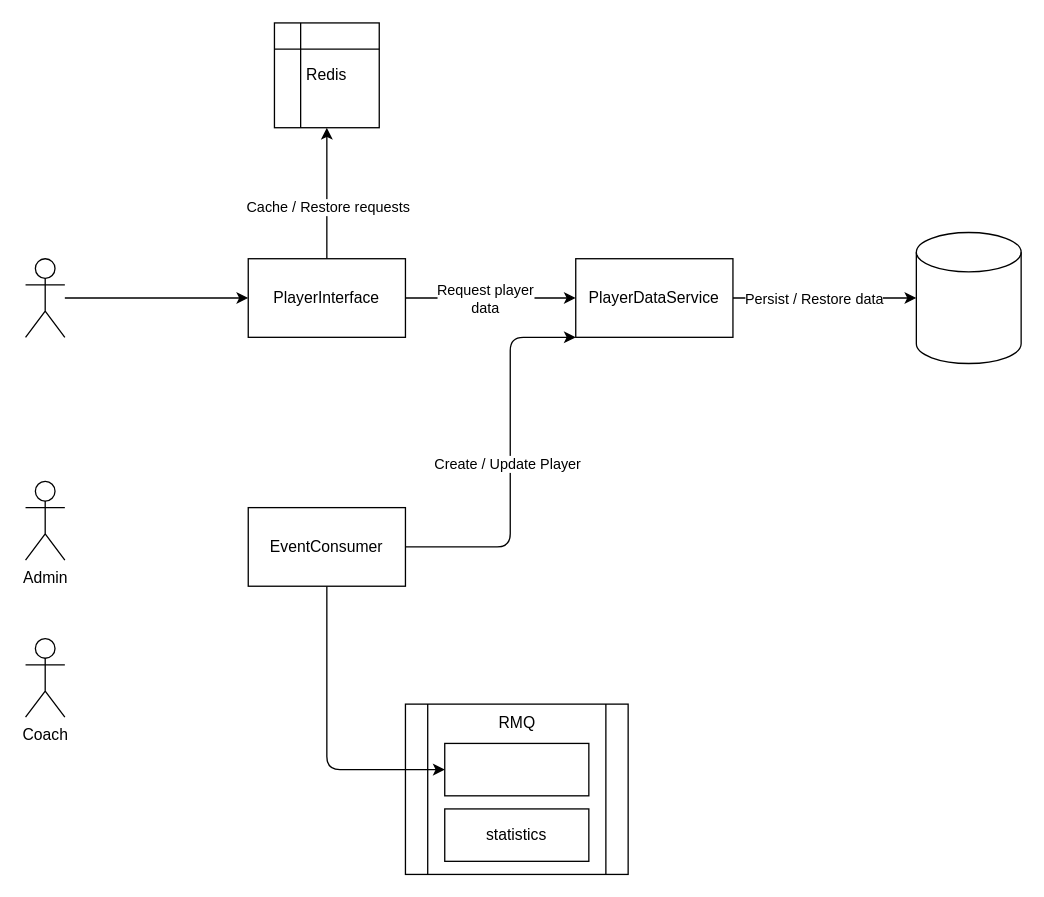
Image size: 1044x897. Some labels were removed from this diagram. The box of each missing label's shape, as (x1, y1, x2, y2) in pixels:
LaxDB [Postgres]: (915, 231, 1021, 364)
players: (443, 742, 589, 796)
User: (24, 257, 65, 337)
